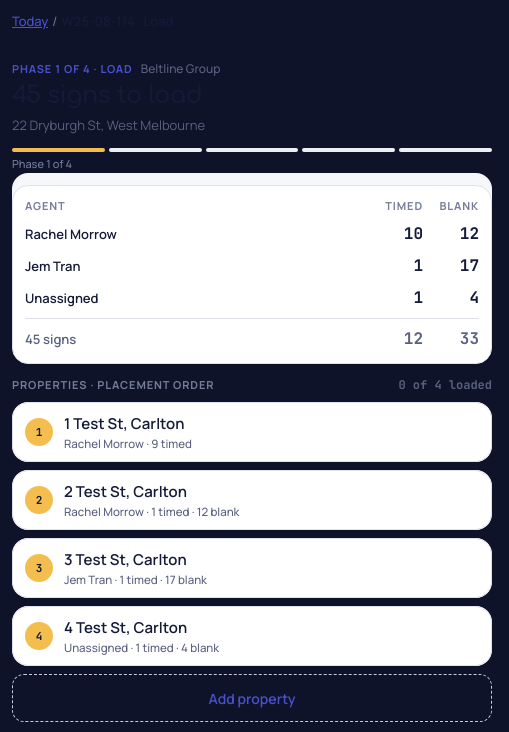
Operator Load page › timed signs checklist › restores a removed property
Press Delete in the button "3 3 Test St, Carlton Jem Tran · 1 timed · 17 blank", box [12,538,492,598]
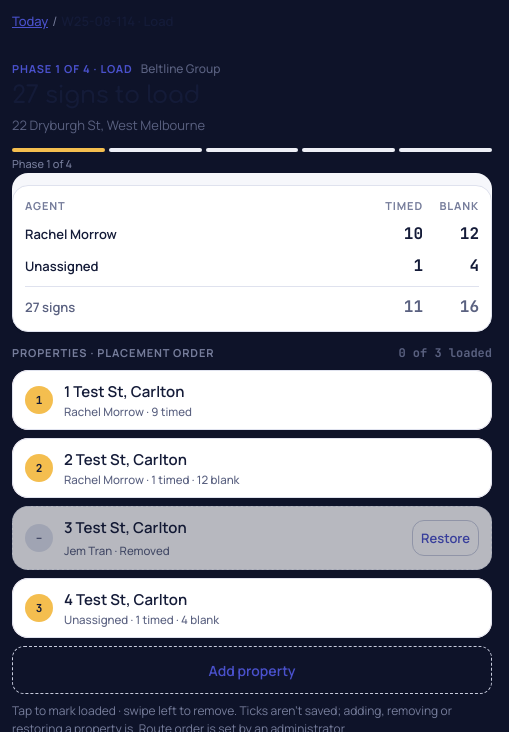
Click the button "Restore" at (446, 538), box [412,520,479,556]
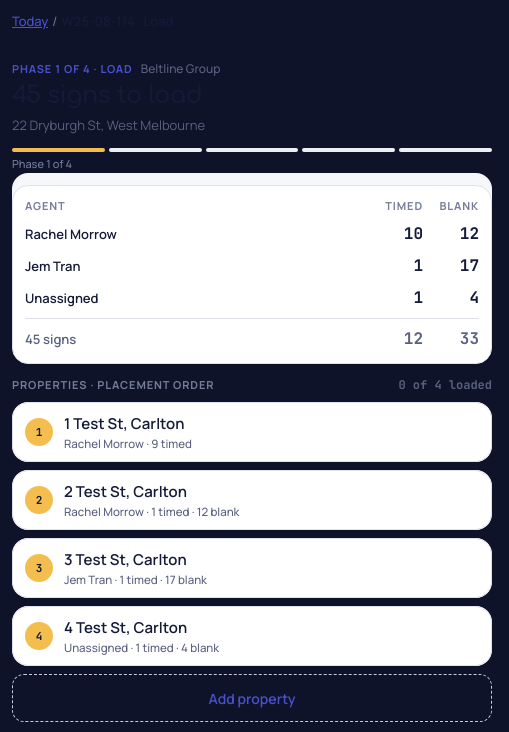
Now the button "3 3 Test St, Carlton Jem Tran · 1 timed · 17 blank" is shown, box [12,538,492,598]
